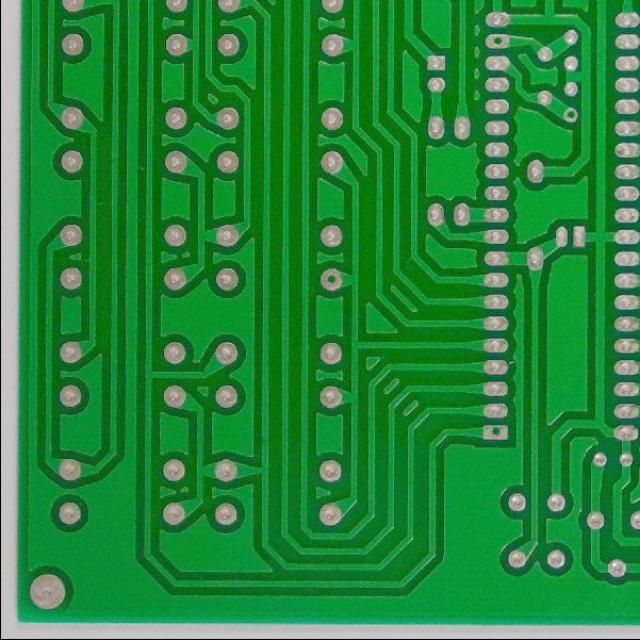missing_hole: (315, 268, 344, 294), (480, 421, 507, 444), (484, 30, 507, 53), (559, 108, 579, 124)
